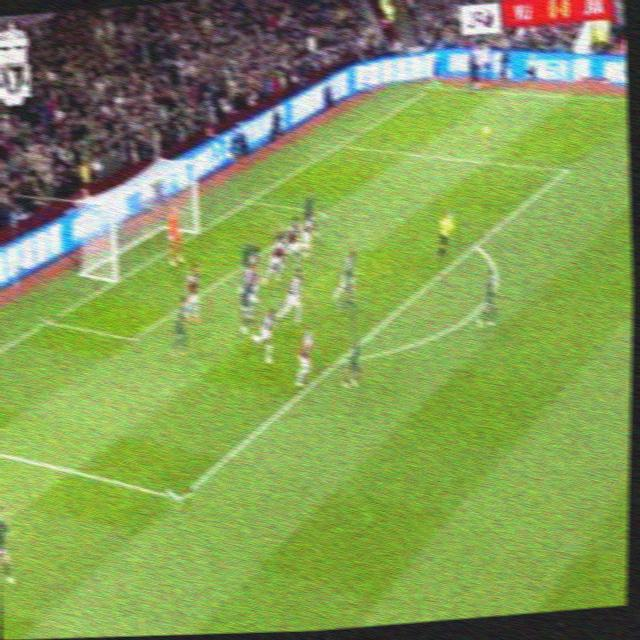bigarea_bottom_inner: (165, 478, 194, 518)
bigarea_top_inner: (555, 157, 576, 186)
bigarea_top_outter: (333, 136, 347, 155)
bottom_arc_area_intersection: (328, 344, 350, 377)
corner: (424, 79, 442, 97)
smallarea_bottom_inner: (122, 324, 148, 353)
smallarea_bottom_outter: (38, 310, 60, 336)
smallarea_top_inner: (314, 200, 329, 225)
smallarea_top_outter: (237, 190, 260, 215)
top_arc_area_intersection: (466, 235, 484, 259)
